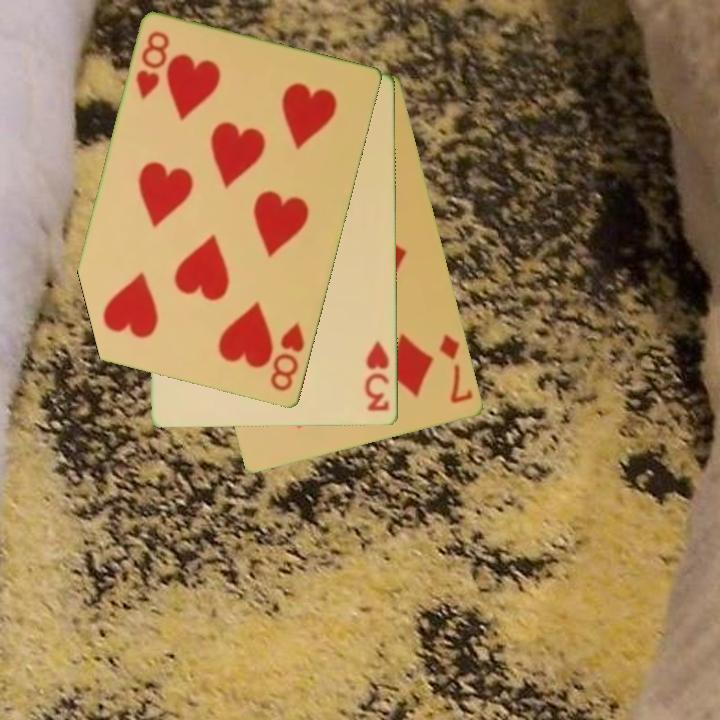3h: (361, 338, 393, 414)
7d: (436, 331, 476, 407)
8h: (267, 319, 308, 395), (132, 28, 173, 103)
